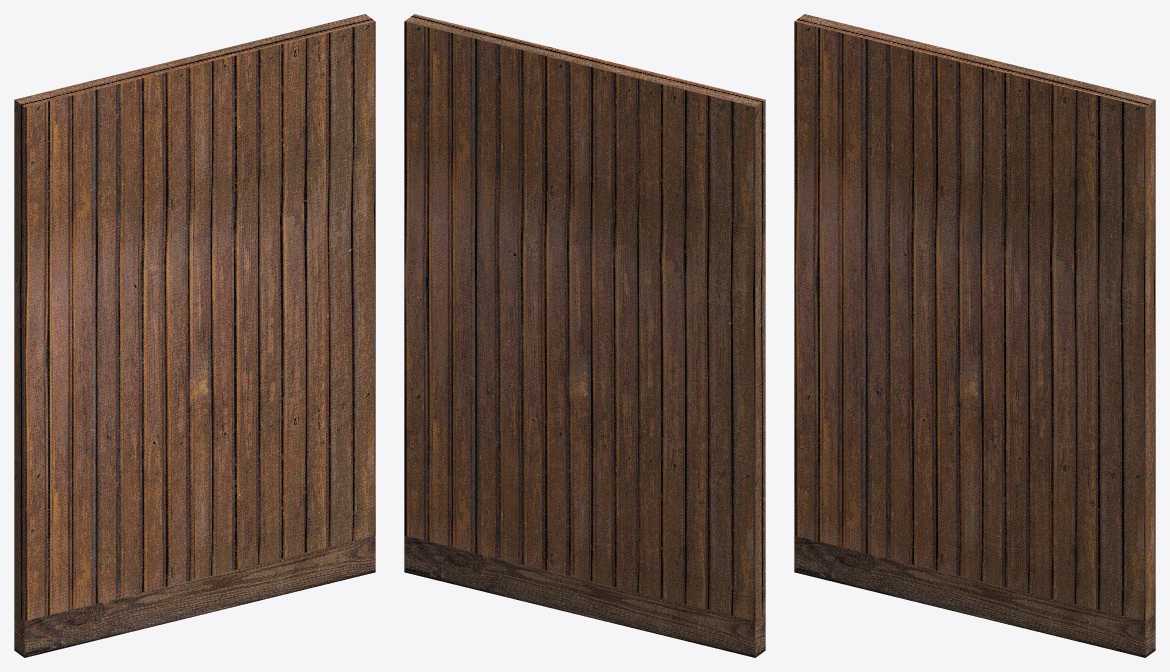
Rendered from wall-int.glb.
3 renders of one model, left to right at view 1: azimuth 30°, elevation 25°; view 2: azimuth 150°, elevation 25°; view 3: azimuth 330°, elevation 25°, orthographic.
Parts seen in each view (by area): view 1: wall-int.001; view 2: wall-int.001; view 3: wall-int.001.
Boxes of the visible parts, left/top/right/bottom form: wall-int.001: left=14, top=14, right=375, bottom=657; wall-int.001: left=404, top=14, right=765, bottom=657; wall-int.001: left=794, top=14, right=1155, bottom=657.
Bounding box in the file's own units: 2 × 3 × 0.1.
2 materials, 2 textured.
